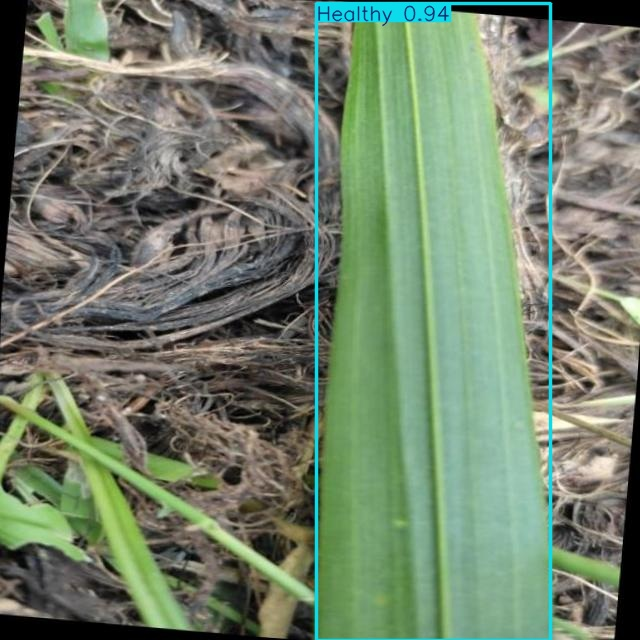Healthy: (317, 4, 551, 640)
